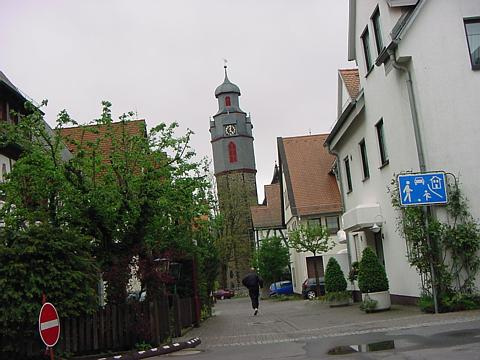person: (244, 269, 266, 318)
